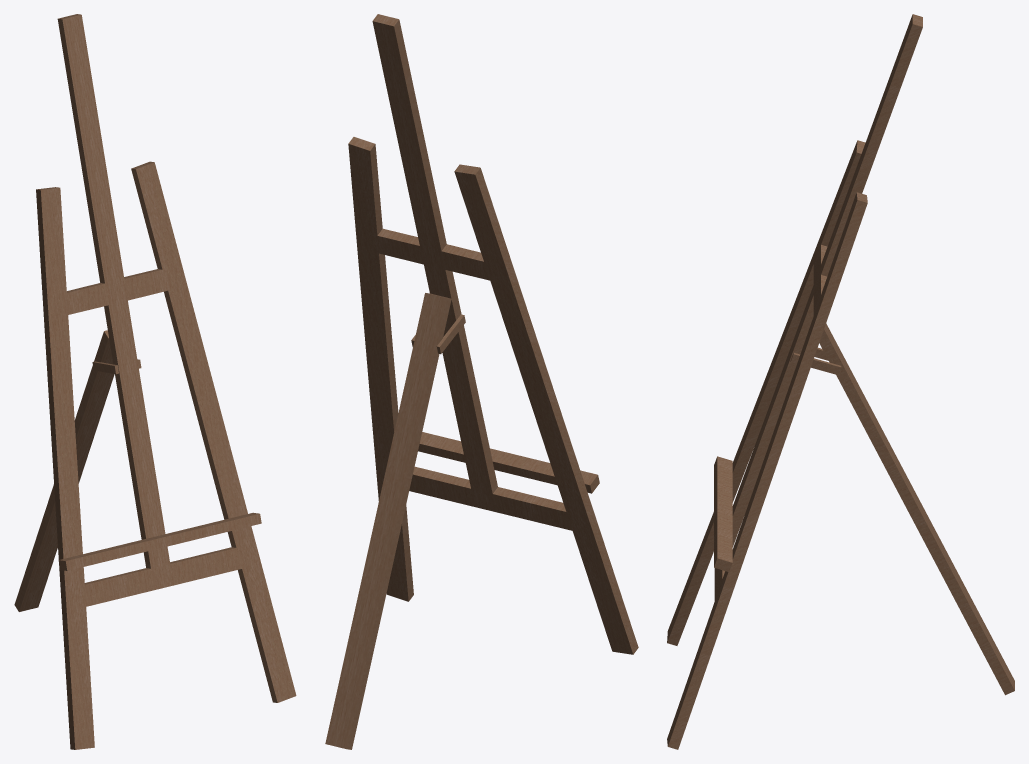
File: Easel_Normal.glb
3 renders of one model, left to right at view 1: azimuth 30°, elevation 25°; view 2: azimuth 150°, elevation 25°; view 3: azimuth 270°, elevation 25°, orthographic. The views are drawn at different scales.
Visible parts, largest first — view 1: Easel; view 2: Easel; view 3: Easel.
Part boxes in pixels (box(x1,y1,x2,y2)): Easel: box(14, 14, 296, 749); Easel: box(325, 14, 638, 749); Easel: box(667, 14, 1014, 749).
Bounding box in the file's own units: 6.18 × 16.75 × 7.83.
1 material, 1 textured.
